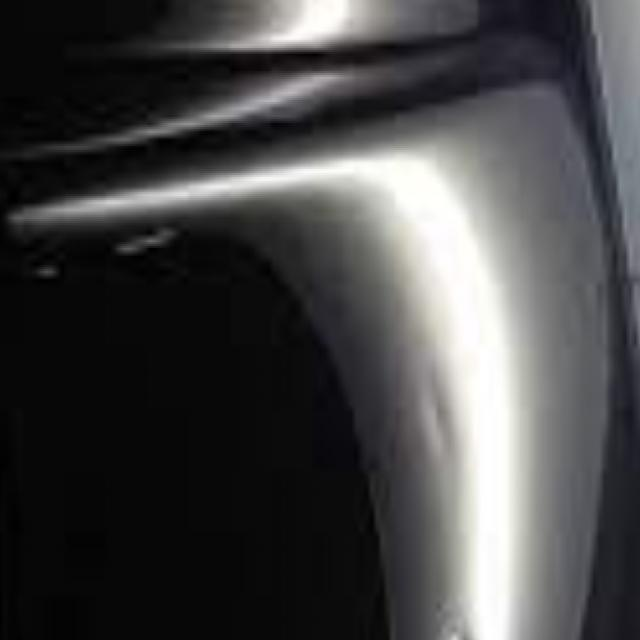dents: (397, 332, 467, 486)
